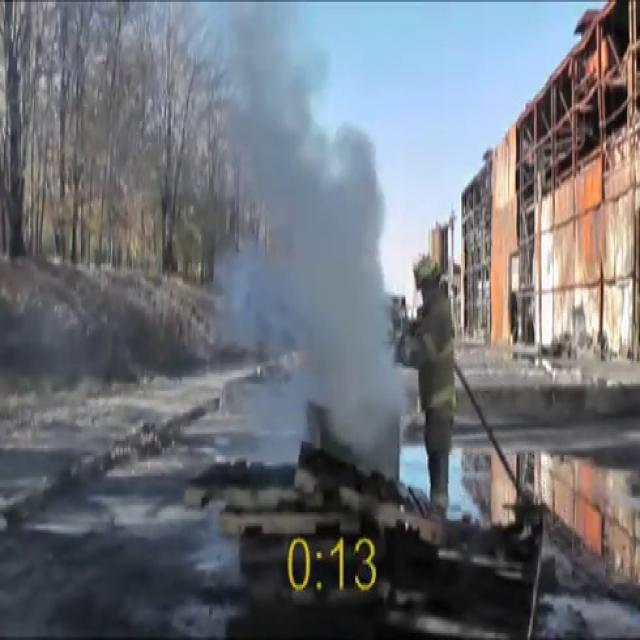Smoke: (216, 9, 416, 480)
